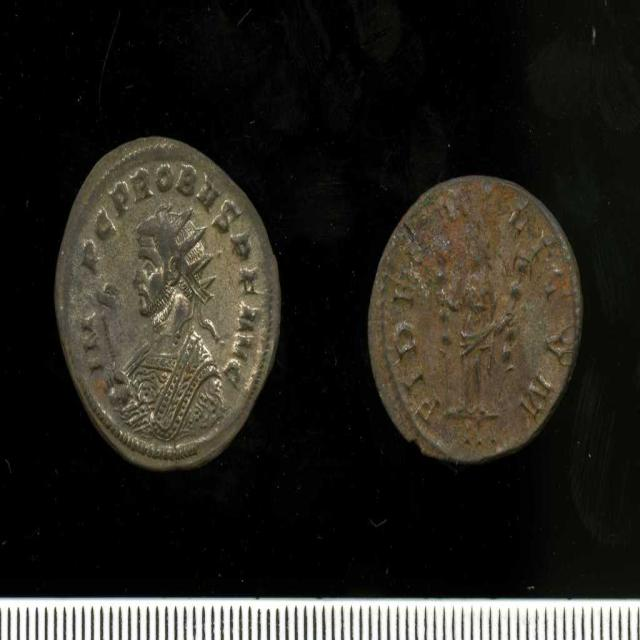Coin: (52, 136, 285, 472), (371, 178, 582, 459)
